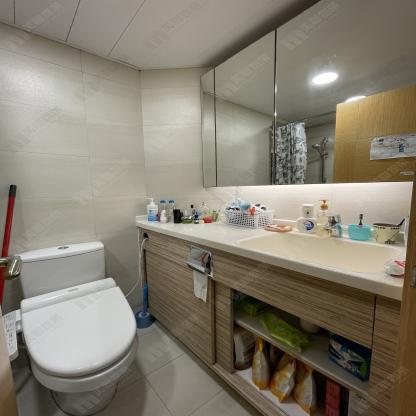Toilet: (14, 240, 140, 416)
Toilet Sink: (224, 231, 404, 292)
